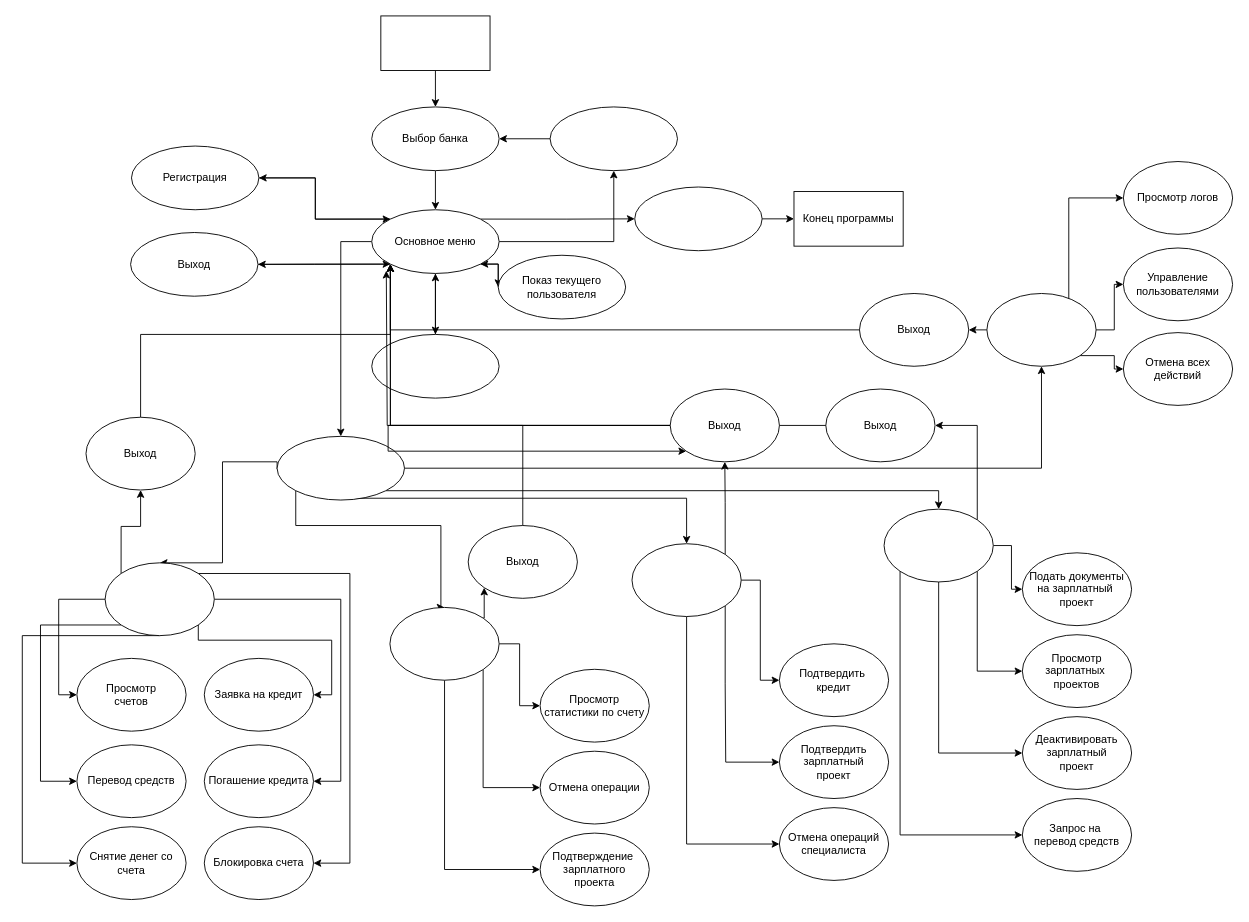
Image size: 1249x922. Some labels were removed from this diagram. The box of each missing label's shape, as (x1, y1, x2, y2) in pixels:
Администратор: (986, 293, 1096, 366)
Вход: (276, 435, 404, 500)
Выбор другого банка: (549, 106, 677, 171)
Вывод всех пользователей: (371, 334, 499, 398)
Выход из программы: (634, 186, 762, 251)
Клиент: (104, 562, 214, 636)
Менеджер: (631, 543, 741, 617)
Начало: (380, 15, 490, 71)
Оператор: (389, 607, 499, 680)
Специалист: (883, 508, 993, 582)
